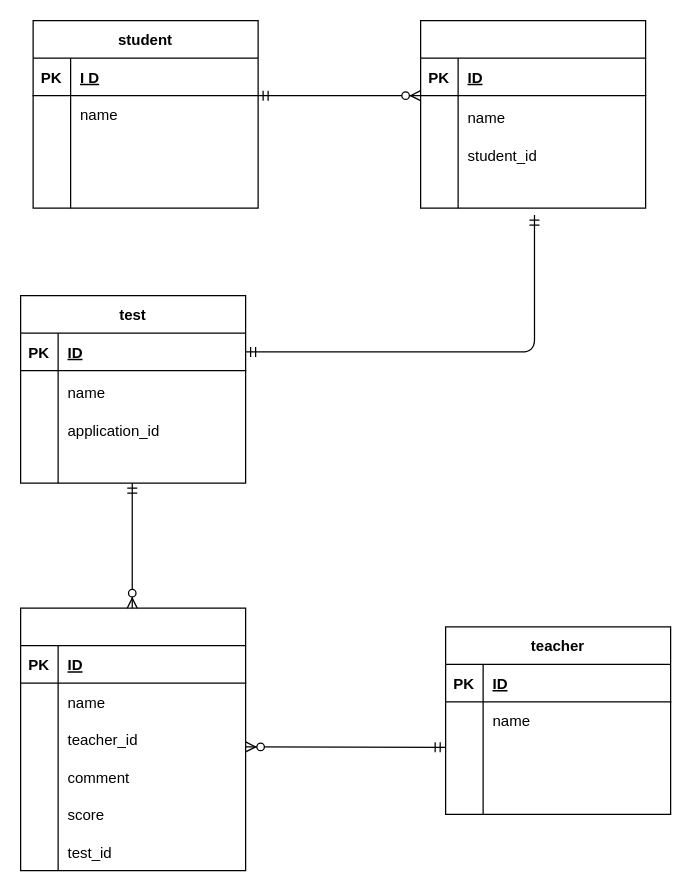
Some shapes in this 691 by 891 pixel diagram are drawn without their labels. Here are the shapes that lost their labels. From the top down, the box of each, then its label:
(419, 19, 646, 208): application
(19, 607, 246, 871): answer
